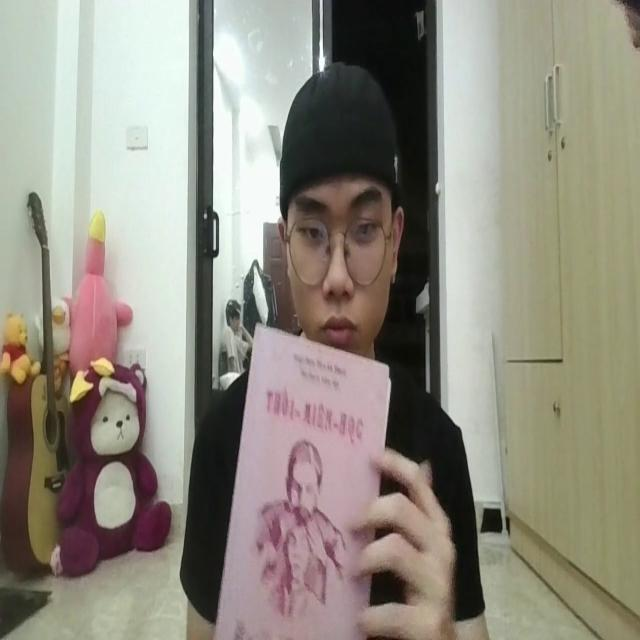book: (217, 308, 390, 640)
student: (177, 52, 485, 640)
